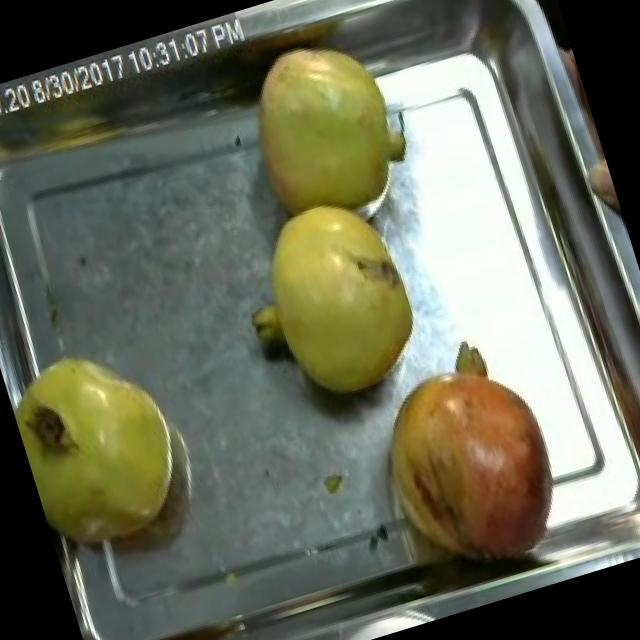fruit: (351, 330, 586, 598), (214, 171, 443, 427), (0, 316, 210, 575), (225, 17, 433, 244), (574, 144, 627, 238)
